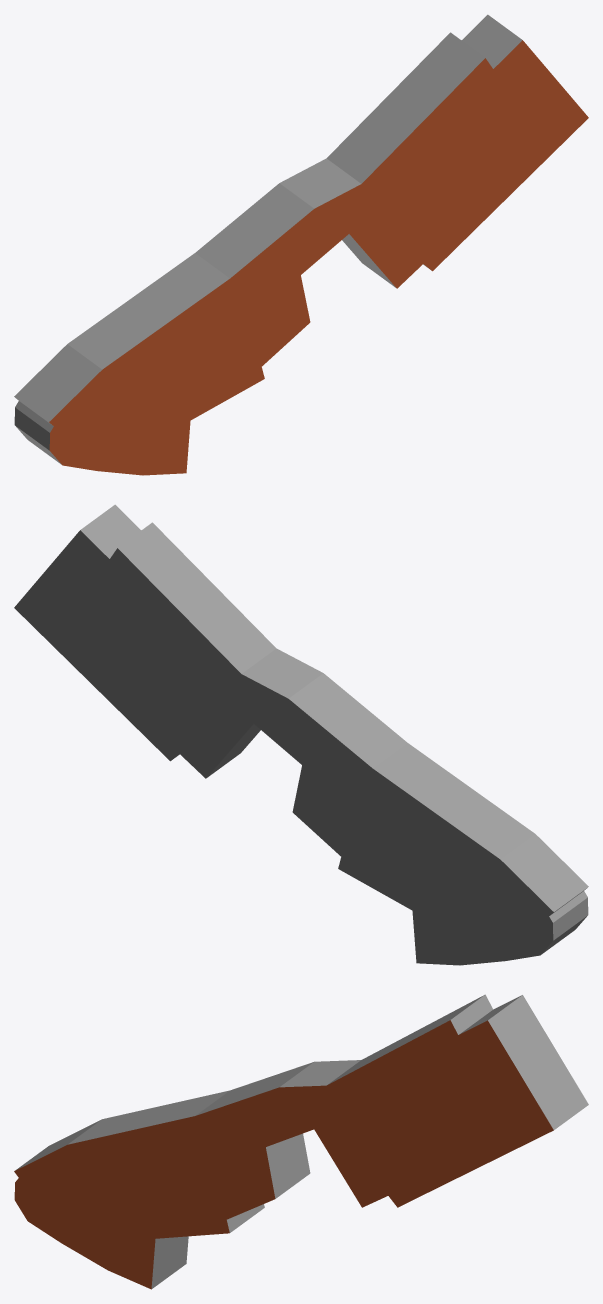
File: construction_1724_assumed_A_Casa_h6m.obj
3 views of the same model, one above another, from view 1: azimuth 30°, elevation 25°; view 2: azimuth 150°, elevation 25°; view 3: azimuth 330°, elevation 25° (orthographic).
Parts seen in each view (by area): view 1: construction_1724_assumed_A_Casa; view 2: construction_1724_assumed_A_Casa; view 3: construction_1724_assumed_A_Casa.
Part boxes in pixels (box(x1,y1,x2,y2)): construction_1724_assumed_A_Casa: box(14, 14, 588, 475); construction_1724_assumed_A_Casa: box(14, 504, 588, 965); construction_1724_assumed_A_Casa: box(14, 994, 588, 1289).
Bounding box in the file's own units: 53.41 × 33.19 × 6.
